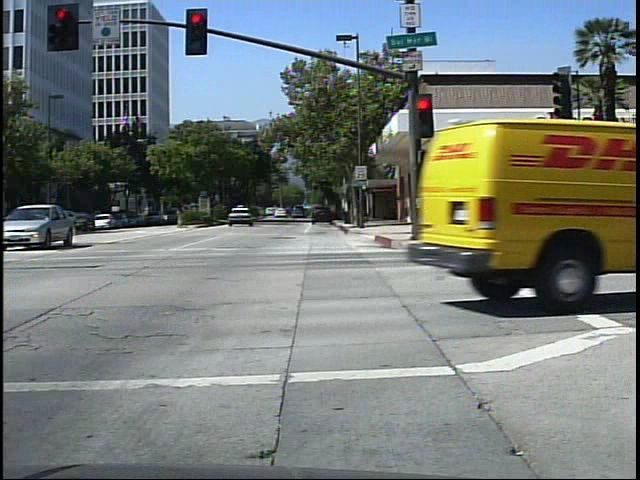person: (283, 204, 297, 222)
